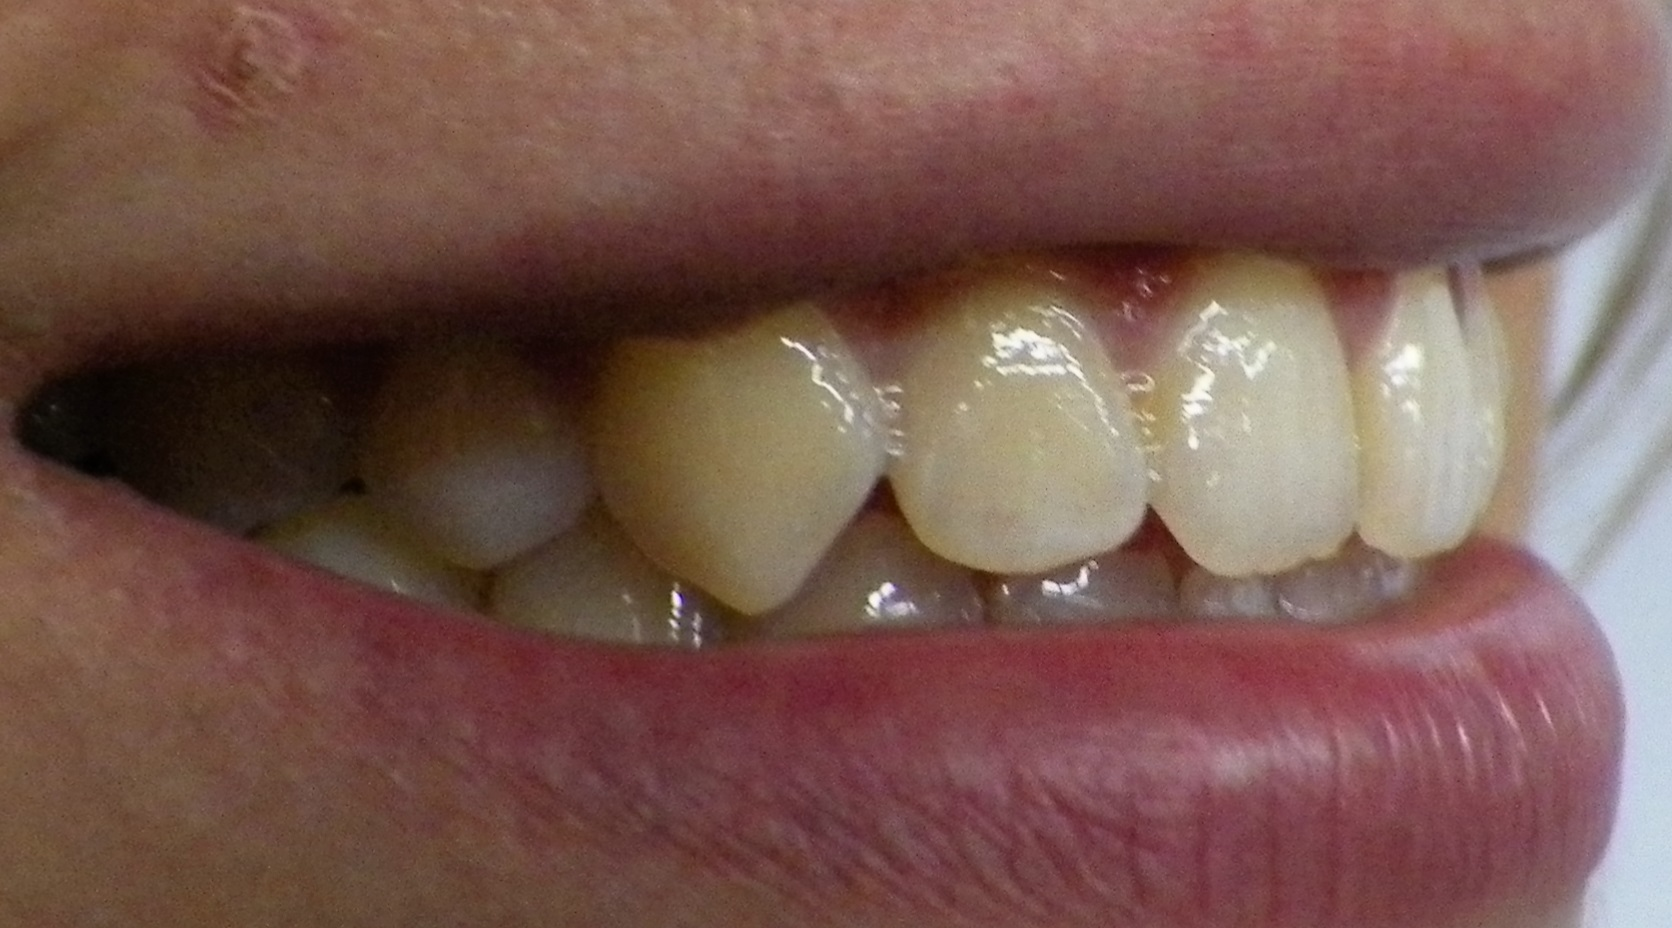boca: (175, 261, 1529, 624)
